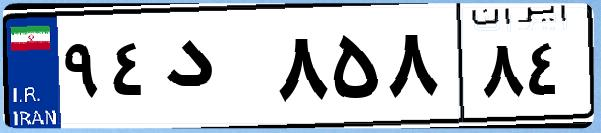4: (525, 38, 570, 115), (110, 28, 158, 98)
5: (330, 28, 385, 110)
8: (270, 28, 330, 110), (385, 28, 445, 110), (475, 38, 525, 113)
9: (57, 26, 110, 100)
د: (158, 20, 270, 120)
